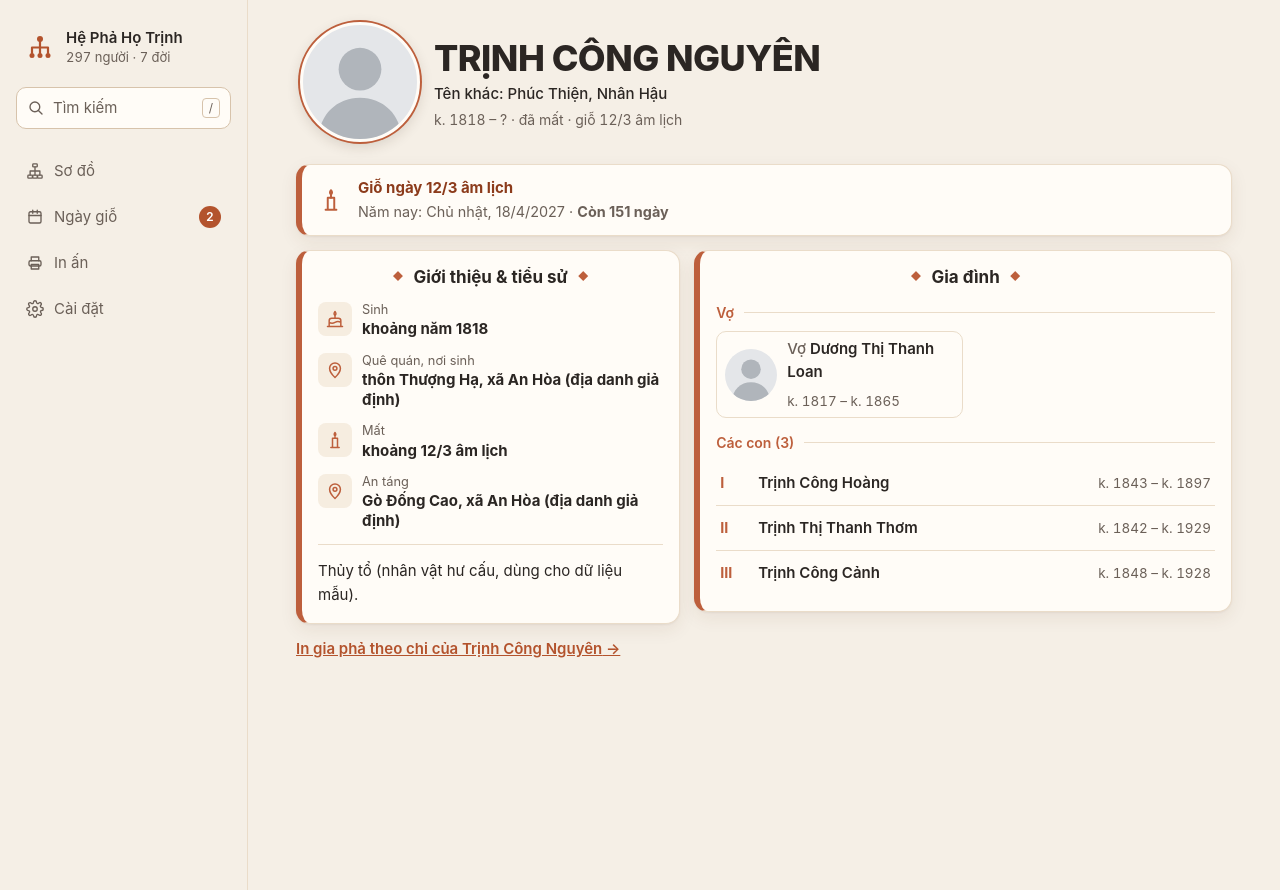
Test case: shared person link › opens a relative from the profile page
The image size is (1280, 890).
Expected: the heading "Trịnh Công Nguyên" is shown, [434, 36, 820, 80]
Click the button "I Trịnh Công Hoàng k. 1843 – k. 1897". click: point(824, 483)
box: [716, 461, 1215, 505]
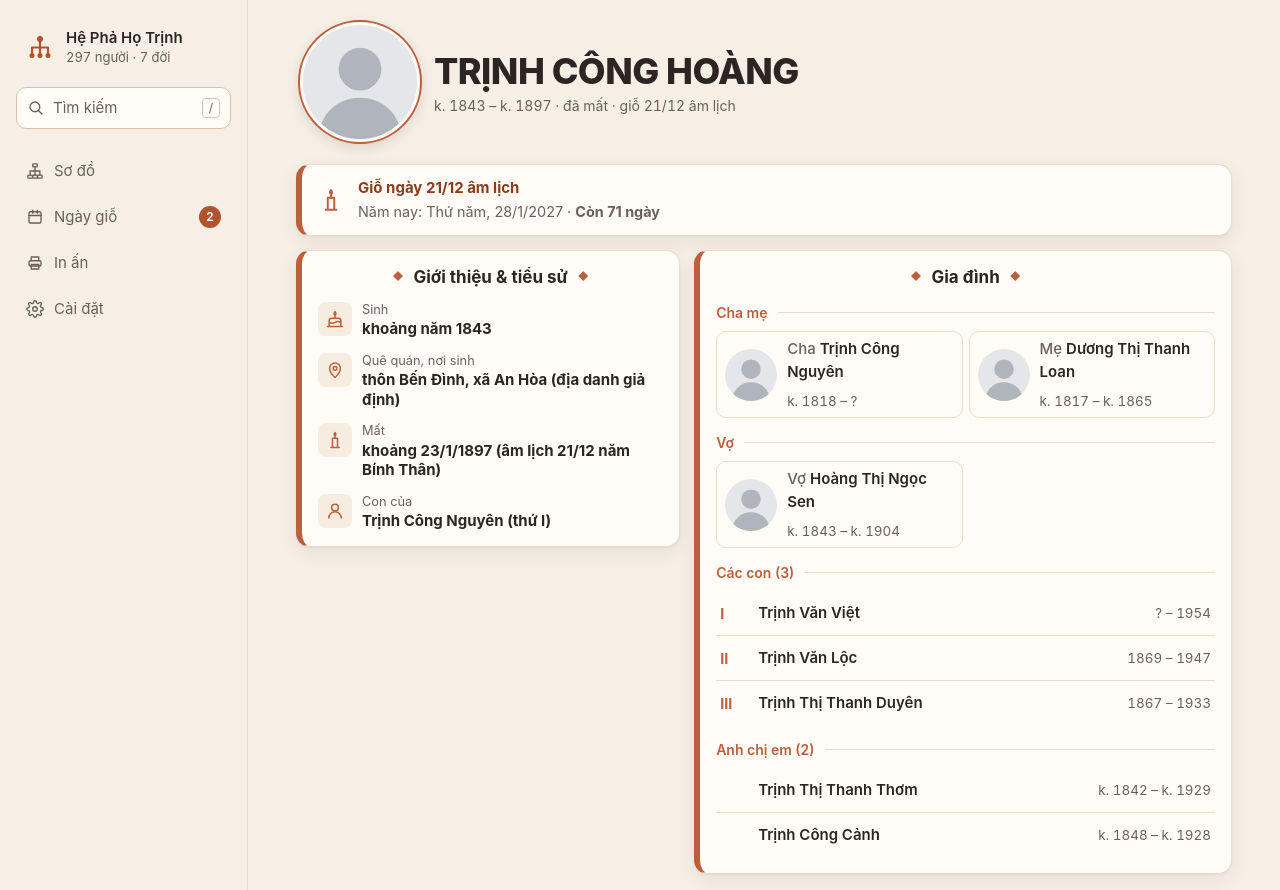
Result: the heading "Trịnh Công Hoàng" is shown at [434, 49, 799, 93]
